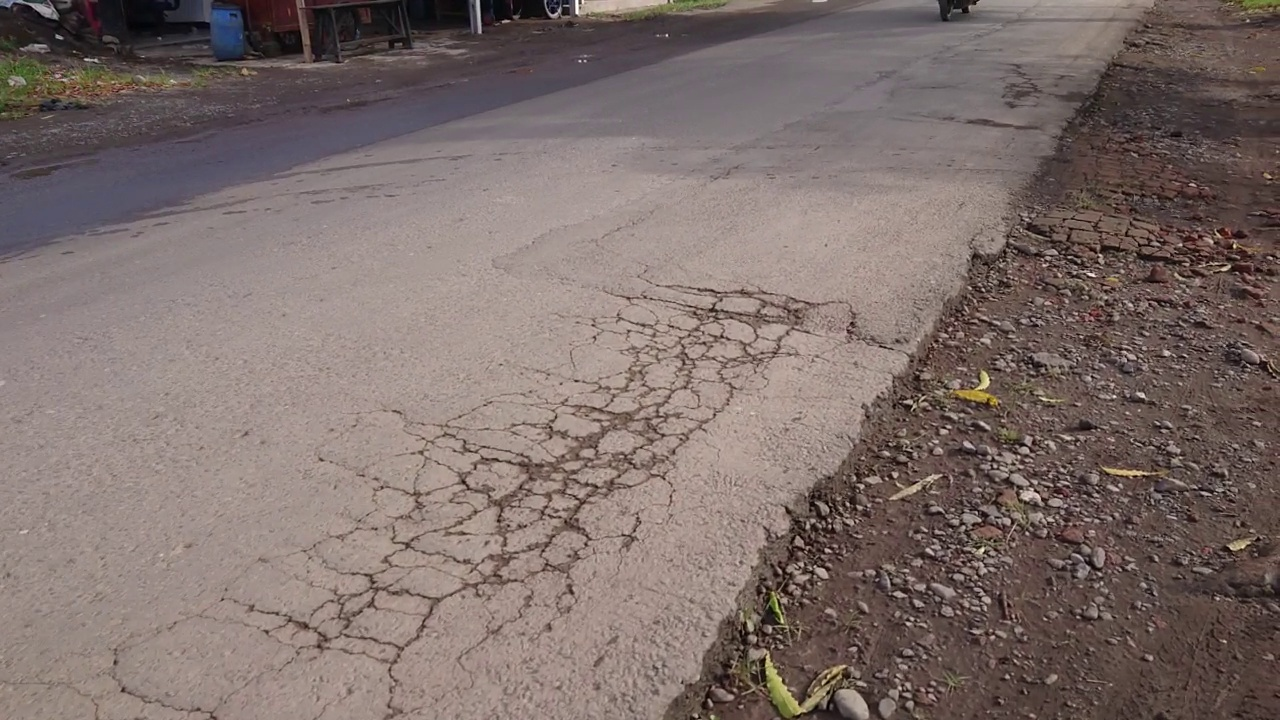Retak: (231, 287, 816, 669), (992, 53, 1076, 129)
